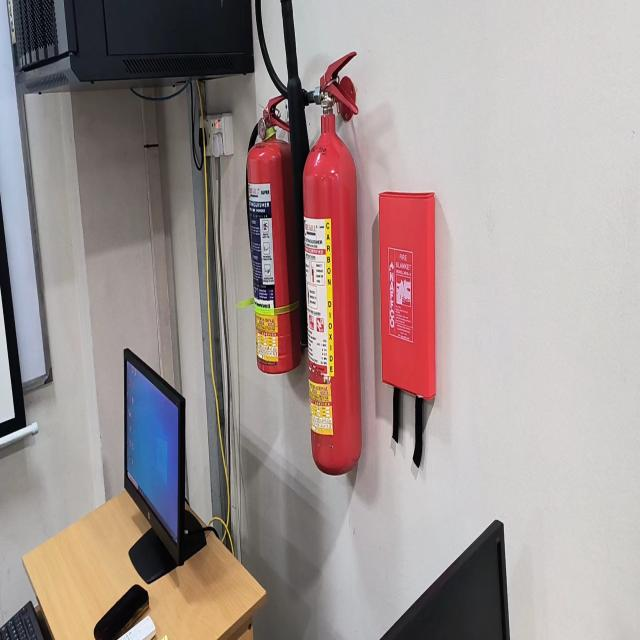Fire Extinguisher: (303, 92, 362, 475), (246, 136, 301, 374)
Keyboard: (0, 601, 44, 639)
Monitor: (124, 348, 218, 584), (381, 520, 510, 639)
